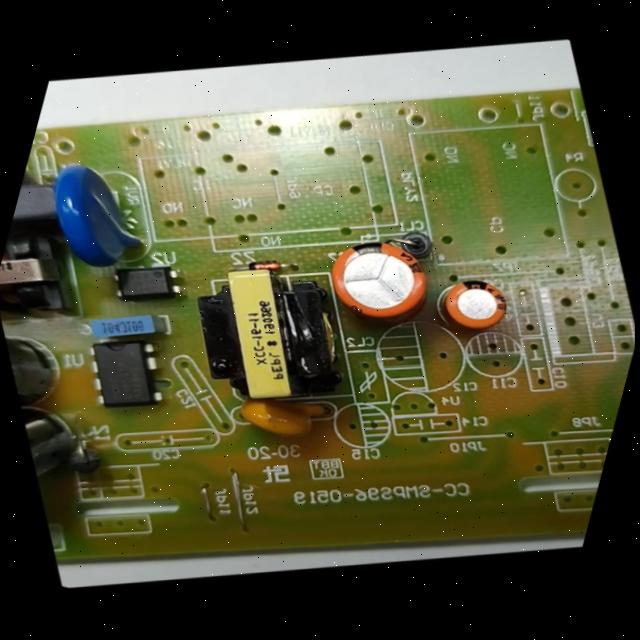Cap1: (300, 209, 455, 343)
Cap2: (420, 257, 526, 346)
Cap3: (0, 302, 85, 416)
Cap4: (0, 390, 107, 508)
MOSFET: (58, 314, 188, 432)
Mov: (16, 136, 176, 292)
Resistor: (16, 141, 50, 207)
Transformer: (152, 227, 390, 439), (0, 212, 101, 341)
